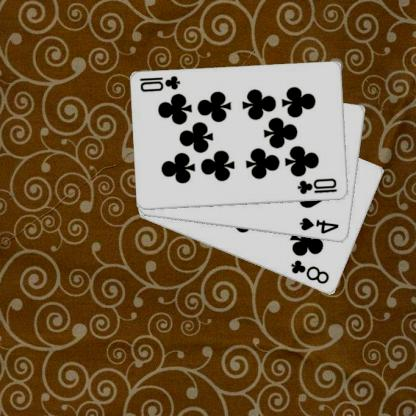10C: (139, 73, 184, 94), (297, 176, 340, 196)
4S: (299, 216, 342, 236)
8C: (290, 258, 332, 286)
